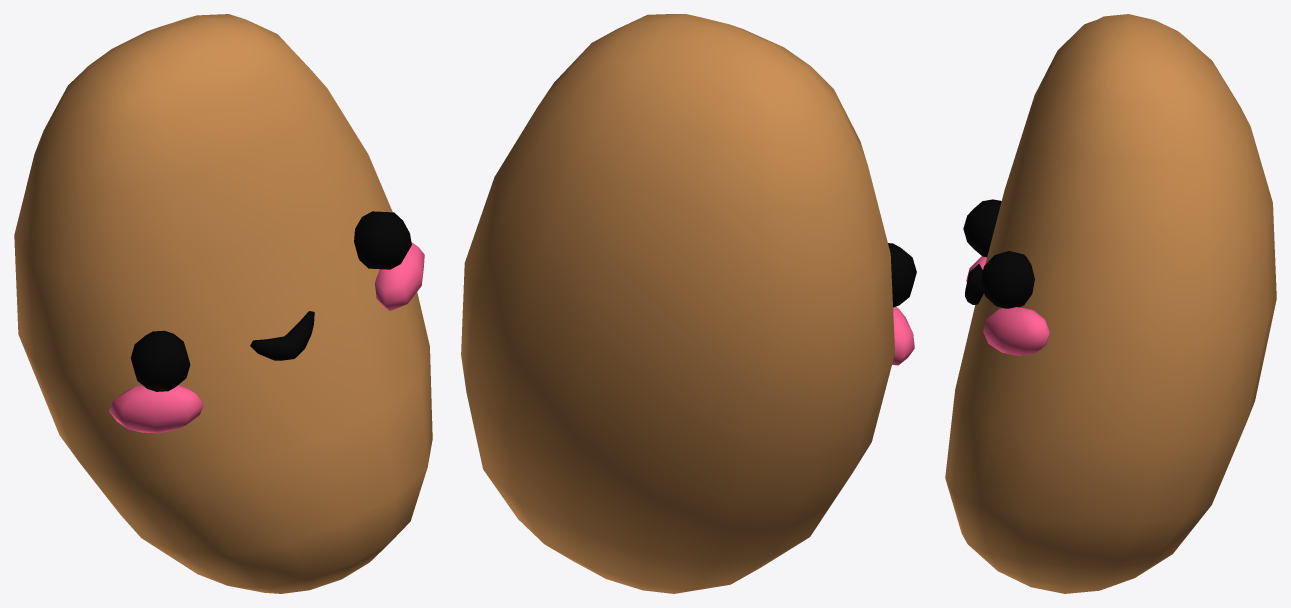
File: Potato(smiling).fbx
3 views of the same model, side by side, from view 1: azimuth 30°, elevation 25°; view 2: azimuth 150°, elevation 25°; view 3: azimuth 270°, elevation 25° (orthographic). The views are drawn at different scales.
Parts seen in each view (by area): view 1: Potato(smiling); view 2: Potato(smiling); view 3: Potato(smiling).
Boxes of the visible parts, x1,y1,x2,y2 form: Potato(smiling): (14, 14, 432, 593); Potato(smiling): (461, 14, 916, 593); Potato(smiling): (945, 14, 1276, 593).
Size of the model in its own units: 97.12 by 138 by 79.1.
